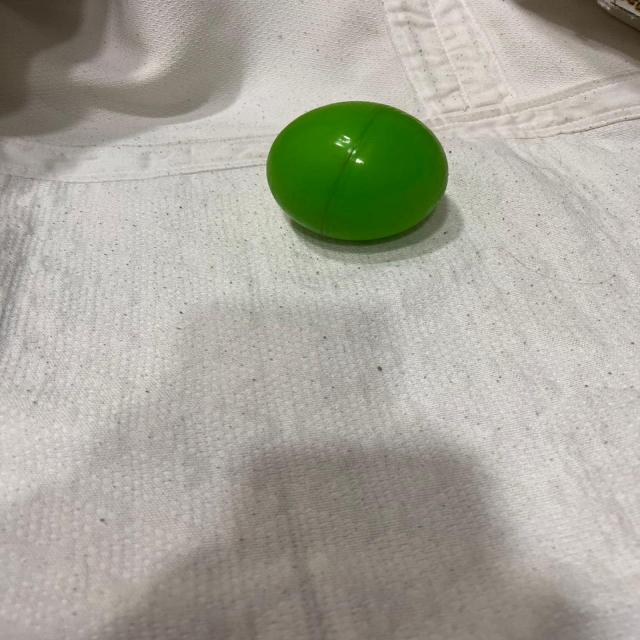ball: (264, 97, 448, 245)
